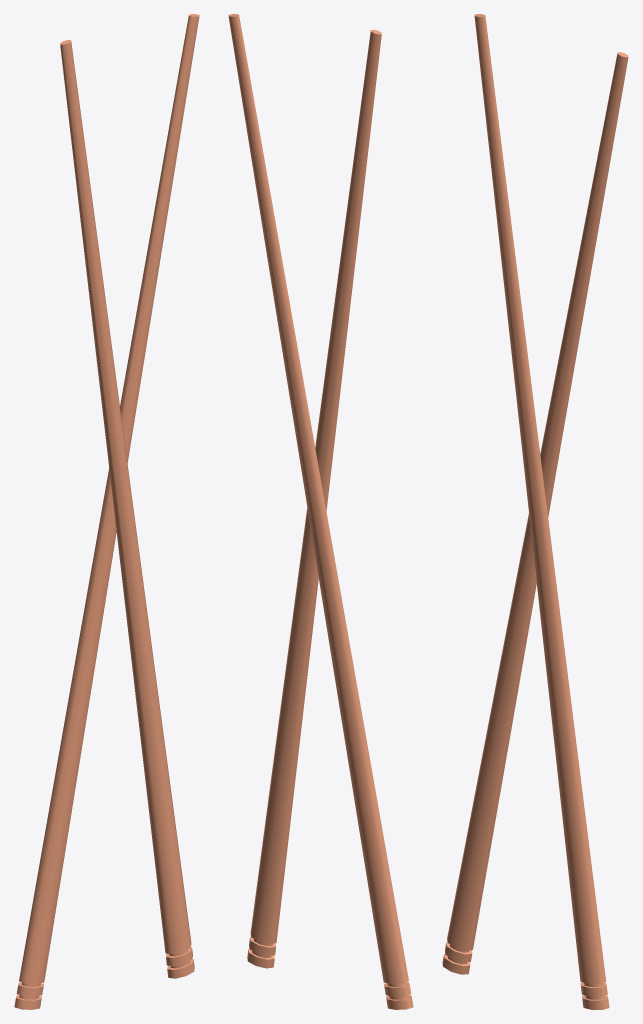
The model's file is chopsticks_crossed_005.glb.
The picture shows the model from 3 angles, left to right: view 1: azimuth 30°, elevation 25°; view 2: azimuth 150°, elevation 25°; view 3: azimuth 330°, elevation 25°; orthographic projection.
Parts seen in each view (by area): view 1: chopsticks crossed.005; view 2: chopsticks crossed.005; view 3: chopsticks crossed.005.
Part boxes in pixels (box(x1,y1,x2,y2)): chopsticks crossed.005: box(14, 14, 199, 1009); chopsticks crossed.005: box(228, 14, 413, 1009); chopsticks crossed.005: box(442, 14, 628, 1009).
Bounding box in the file's own units: 1.11 × 5.5 × 0.1678.
1 material, 1 textured.
